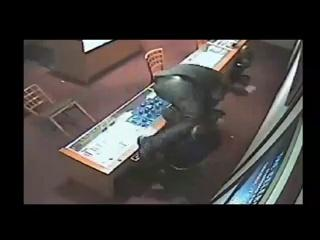shoplifting: (129, 54, 265, 180)
